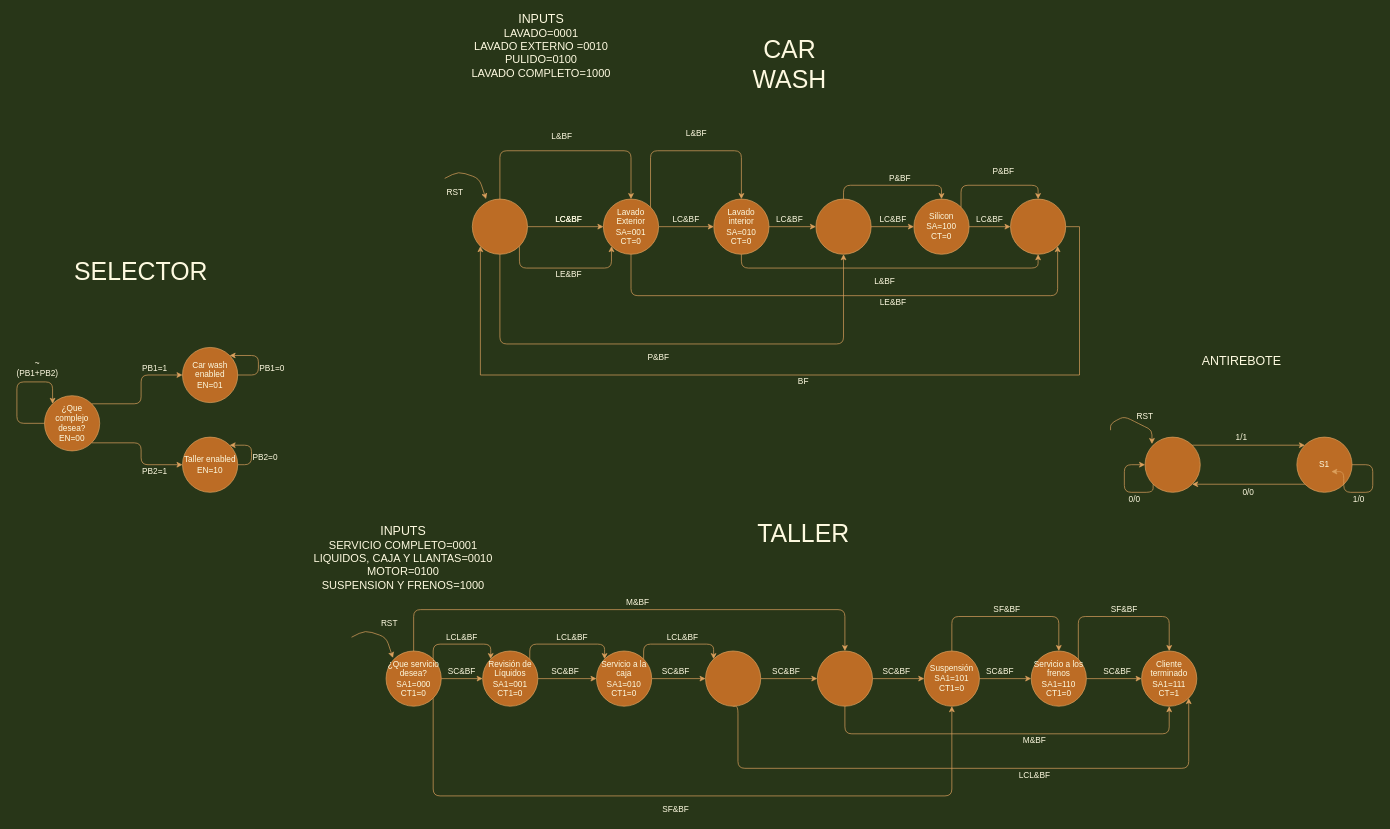
Some shapes in this 1390 by 829 pixel diagram are drawn without their labels. Each missing label, with the centre of its shape:
Cera SA=011 CT=0: pixel 843 226
Cliente terminado SA=101 CT=1: pixel 1038 226
Llantas SA1=011 CT1=0: pixel 733 678
S0: pixel 1172 464
Servicio al motor SA1=100 CT1=0: pixel 845 678
¿Que servicio desea? SA=000 CT=0: pixel 500 226
